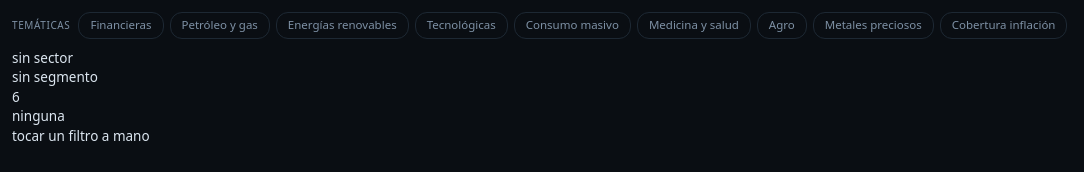
Test: ChipsTematicos › cobertura inflación filtra por segmento CER, no por sector
The image size is (1084, 172).
Click the button "Cobertura inflación" at point(1004, 25), box [940,12,1068,39]
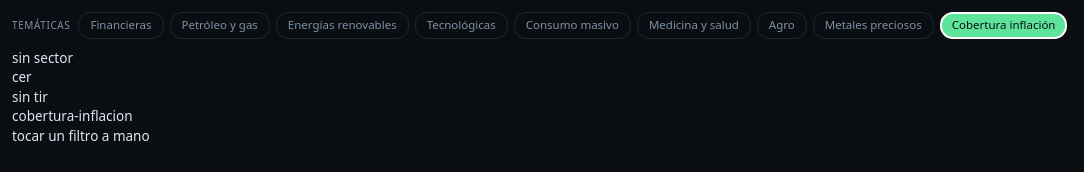
Expected: the text with test id "sector" reads "sin sector", [12,49,73,67]
Result: the text with test id "segmento" reads "cer" at [12,68,32,86]
